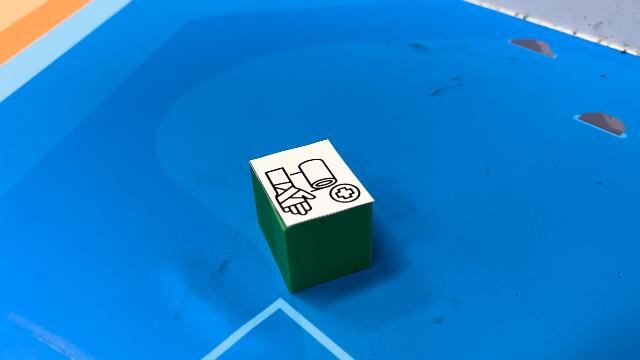bandage: (249, 138, 375, 294)
